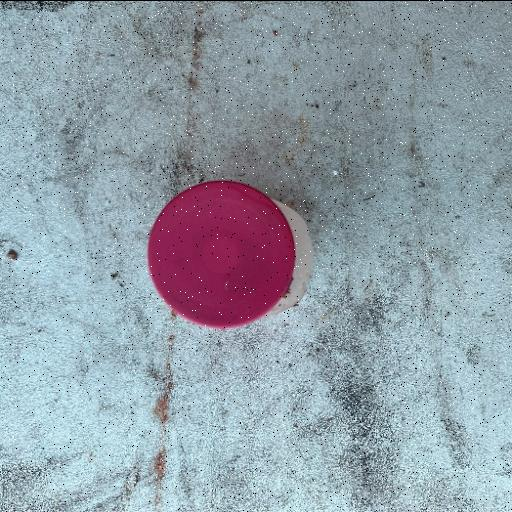Plastic: (144, 178, 316, 332)
